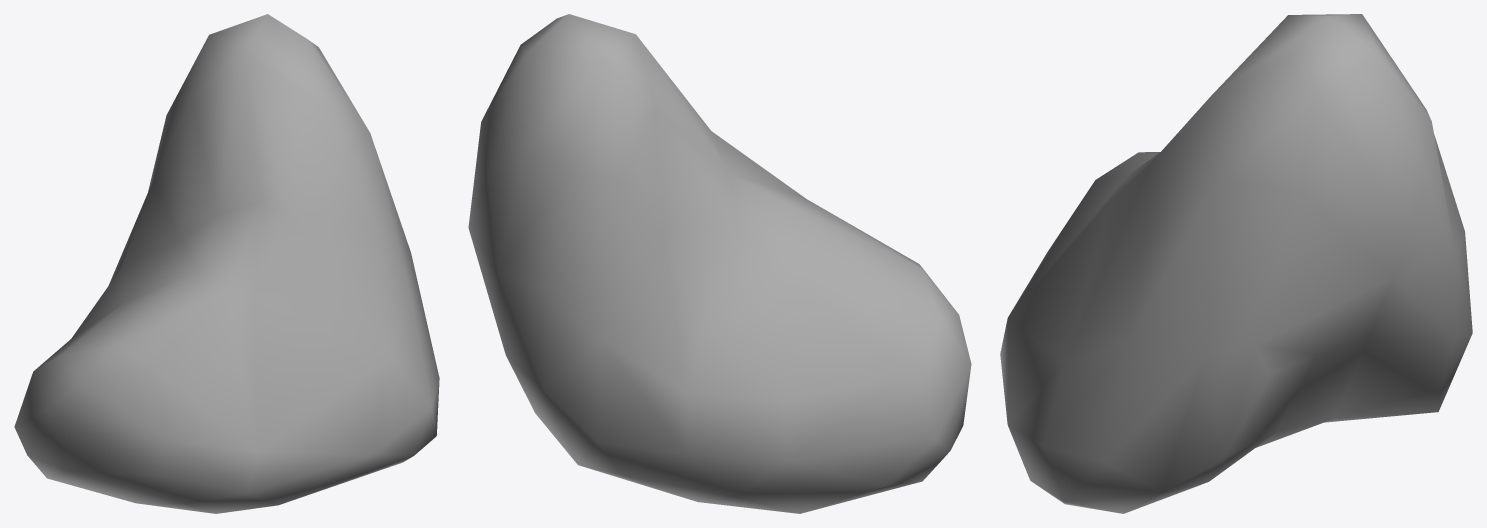
Rendered from SoftRock_05.fbx.
3 renders of one model, left to right at view 1: azimuth 30°, elevation 25°; view 2: azimuth 150°, elevation 25°; view 3: azimuth 270°, elevation 25°, orthographic. The views are drawn at different scales.
Visible parts, largest first — view 1: SoftRock_05; view 2: SoftRock_05; view 3: SoftRock_05.
Part boxes in pixels (left/top/right/bottom): SoftRock_05: left=14, top=14, right=439, bottom=513; SoftRock_05: left=468, top=14, right=971, bottom=513; SoftRock_05: left=1000, top=14, right=1472, bottom=513.
Size of the model in its own units: 100 by 97.37 by 87.08.
